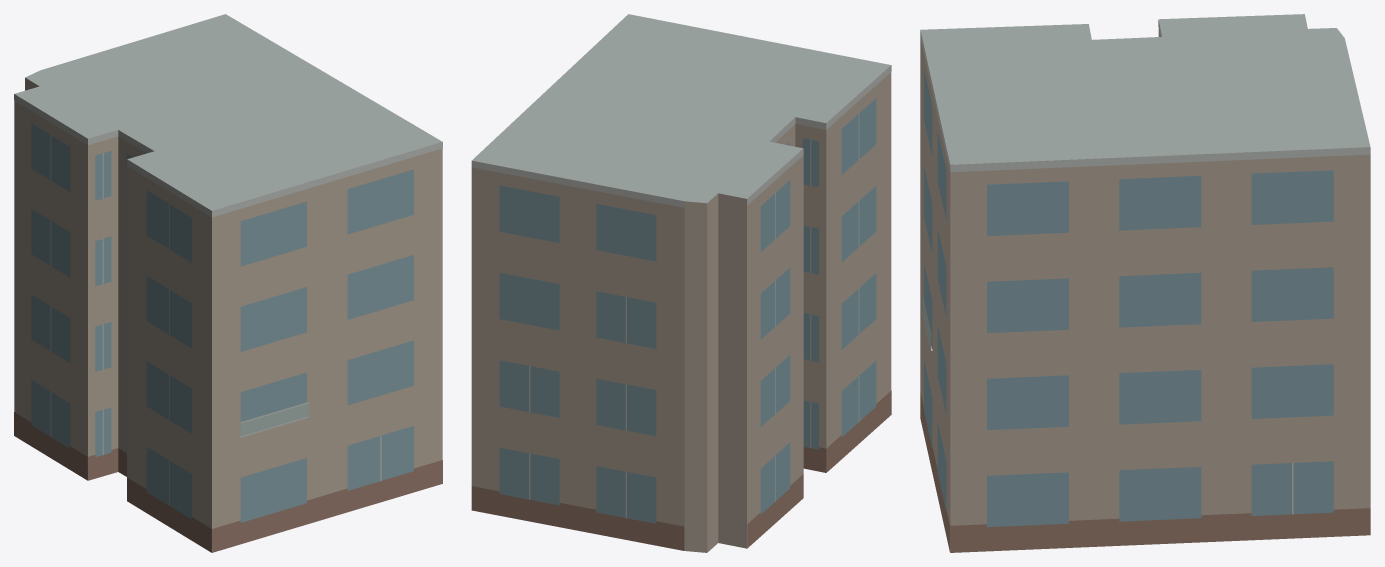
Rendered from survey-upis-32655275.glb.
3 renders of one model, left to right at view 1: azimuth 30°, elevation 25°; view 2: azimuth 150°, elevation 25°; view 3: azimuth 270°, elevation 25°, orthographic. The views are drawn at different scales.
Visible parts, largest first — view 1: survey-upis-32655275.tmp; view 2: survey-upis-32655275.tmp; view 3: survey-upis-32655275.tmp.
Part boxes in pixels (left/top/right/bottom): survey-upis-32655275.tmp: left=14, top=14, right=442, bottom=552; survey-upis-32655275.tmp: left=471, top=14, right=891, bottom=552; survey-upis-32655275.tmp: left=920, top=14, right=1370, bottom=552.
Bounding box in the file's own units: 10.68 × 12.8 × 13.47.
